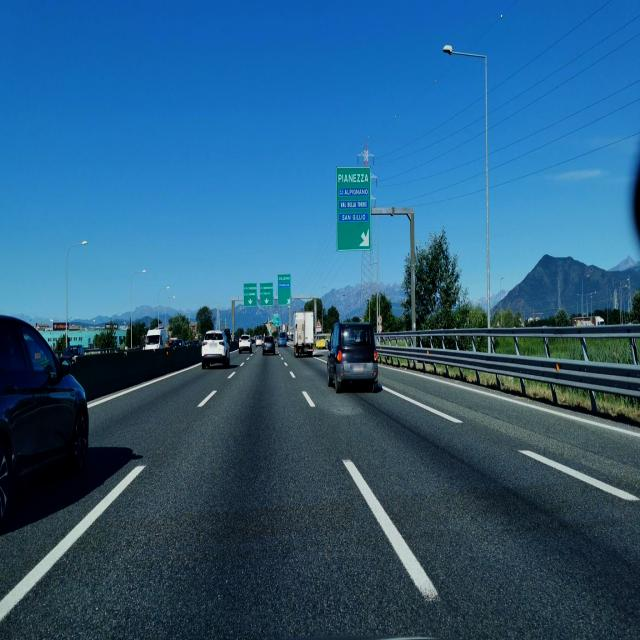car: (0, 309, 89, 535), (326, 319, 379, 393), (201, 329, 231, 368), (238, 334, 252, 353), (263, 335, 275, 356), (277, 332, 287, 348), (168, 338, 180, 348), (255, 335, 262, 346)
